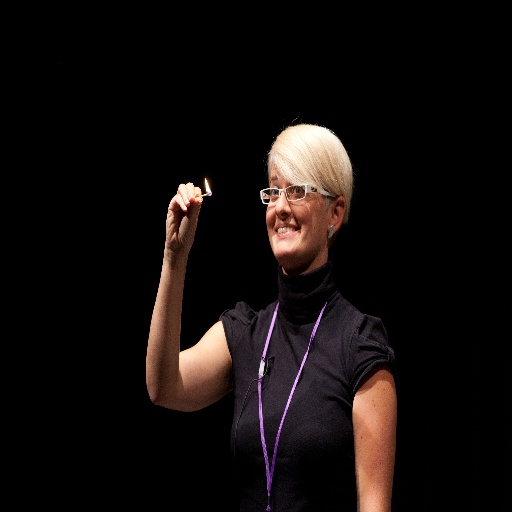hand: (157, 174, 210, 267)
